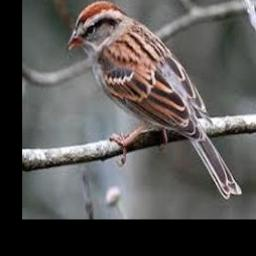Sparrow: (66, 0, 242, 200)
